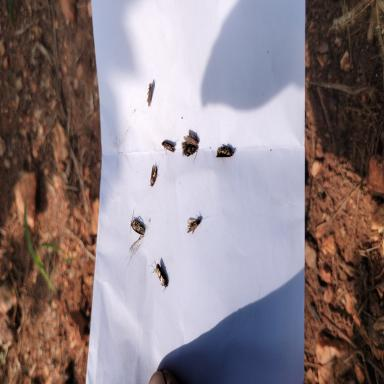pbw: (181, 132, 199, 164), (151, 263, 168, 292), (130, 209, 146, 235), (186, 218, 202, 234), (216, 145, 234, 158), (148, 164, 158, 187), (146, 83, 155, 107), (161, 141, 175, 155)
